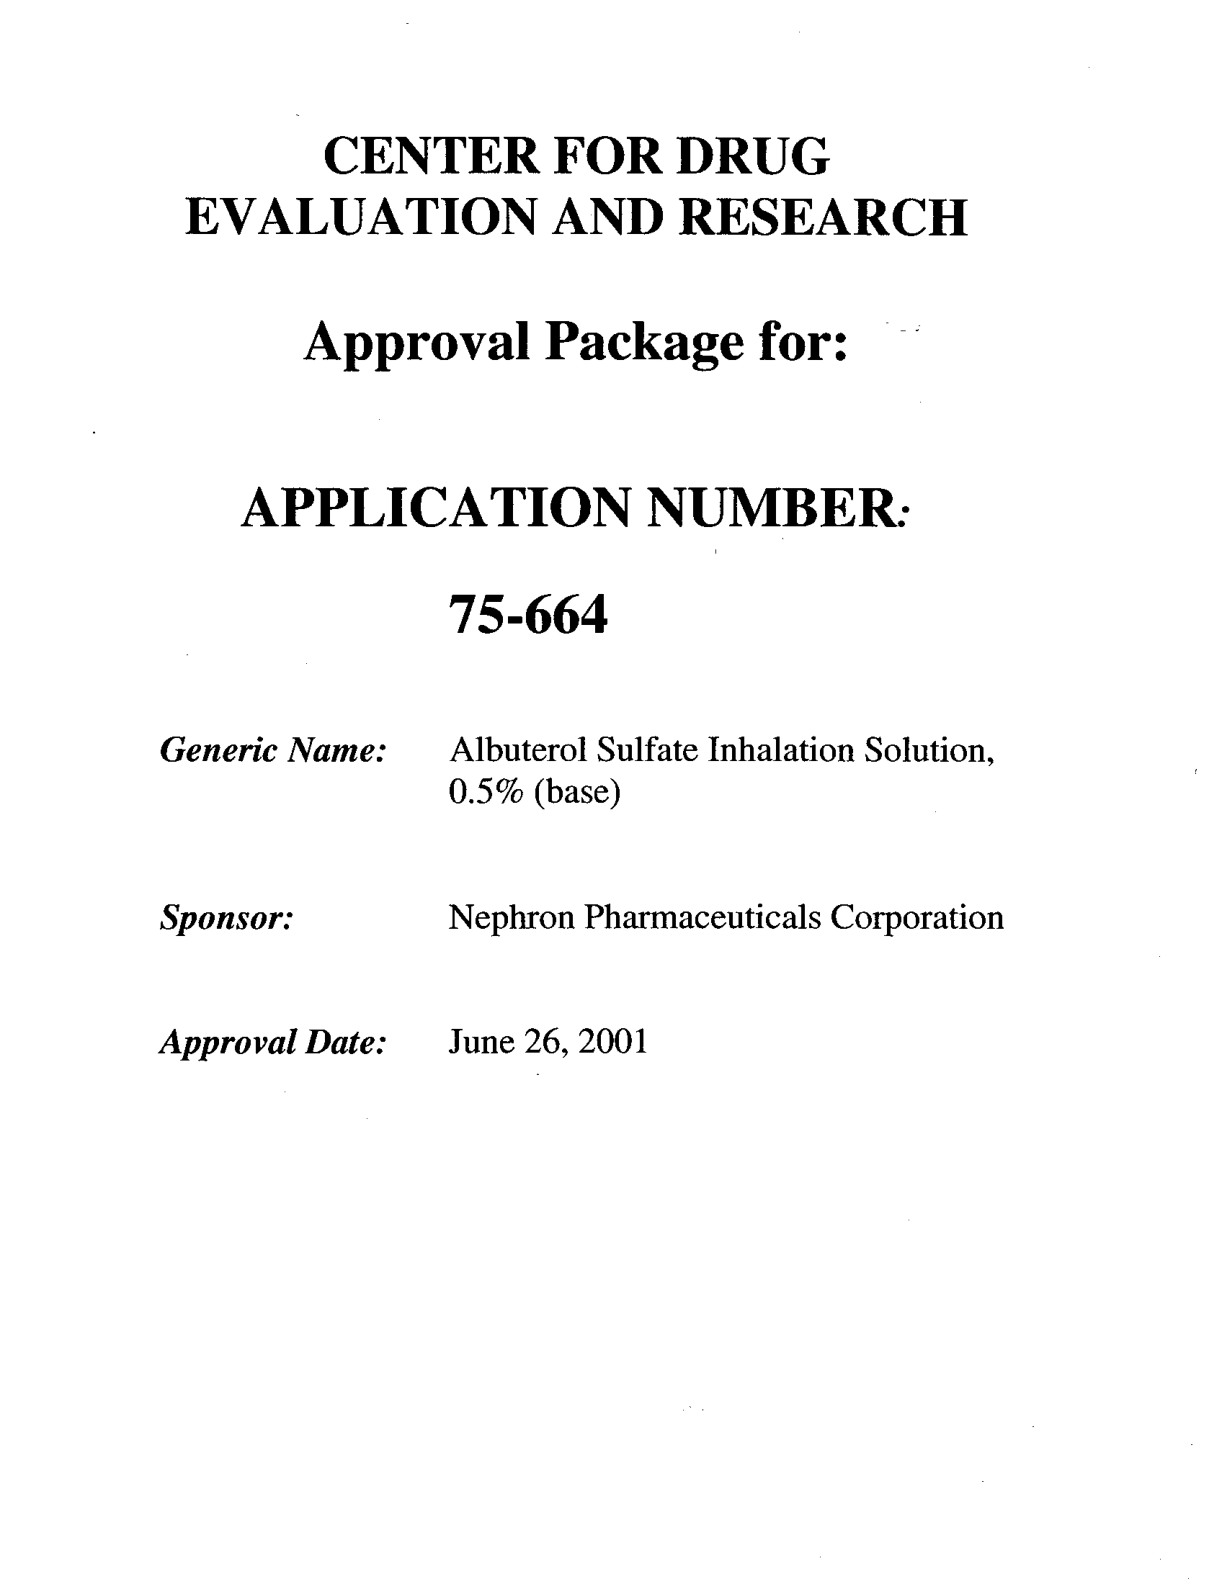nolines: (153, 729, 1010, 1067)
